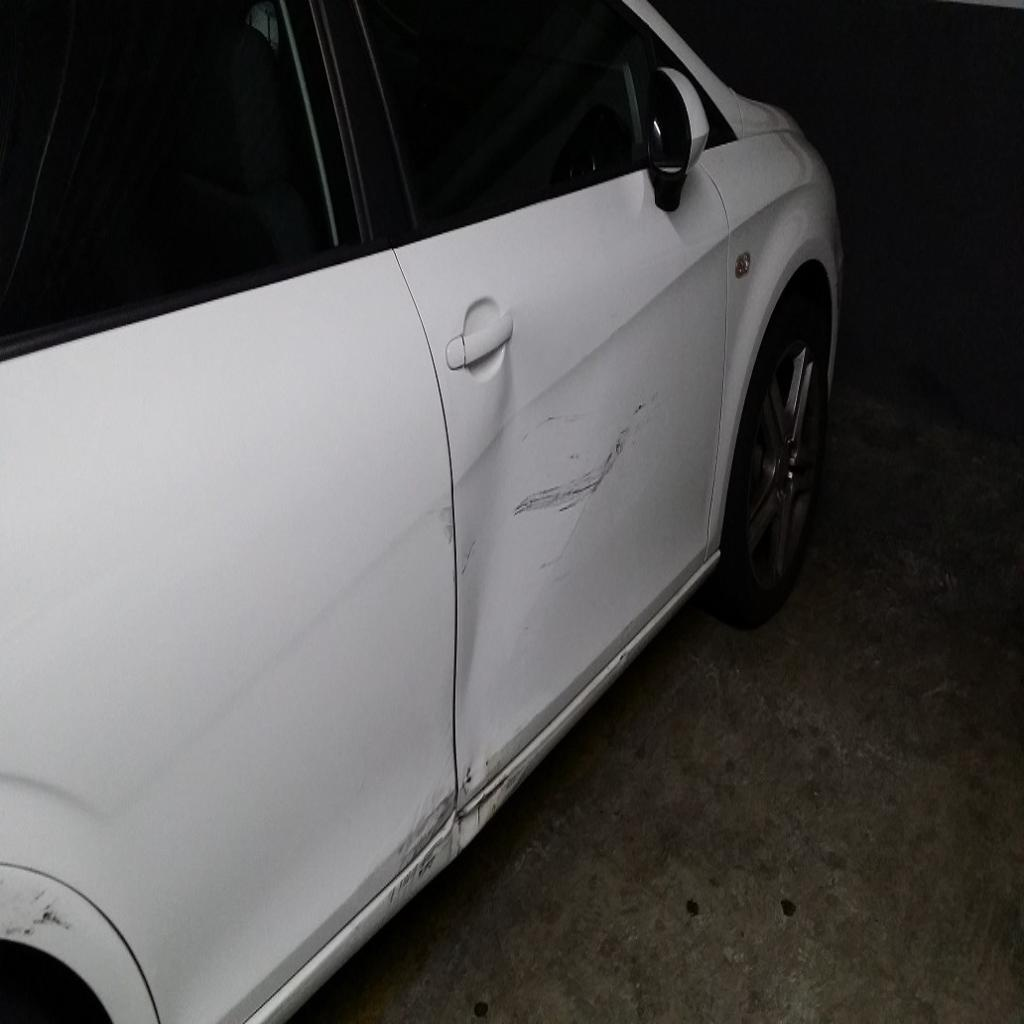Dent: (442, 327, 594, 571)
Scratch: (504, 398, 660, 532)
